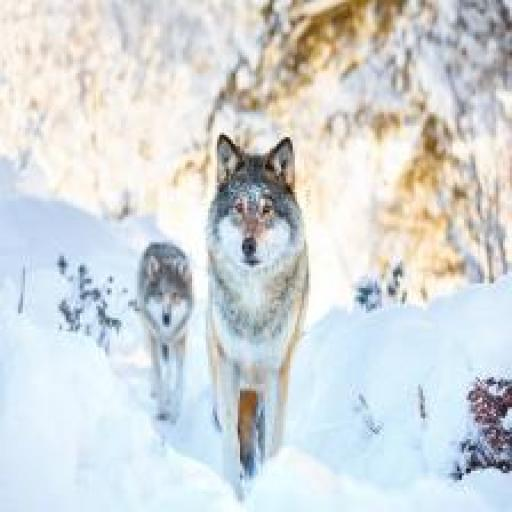wolf: (201, 137, 330, 484), (126, 194, 198, 420)
